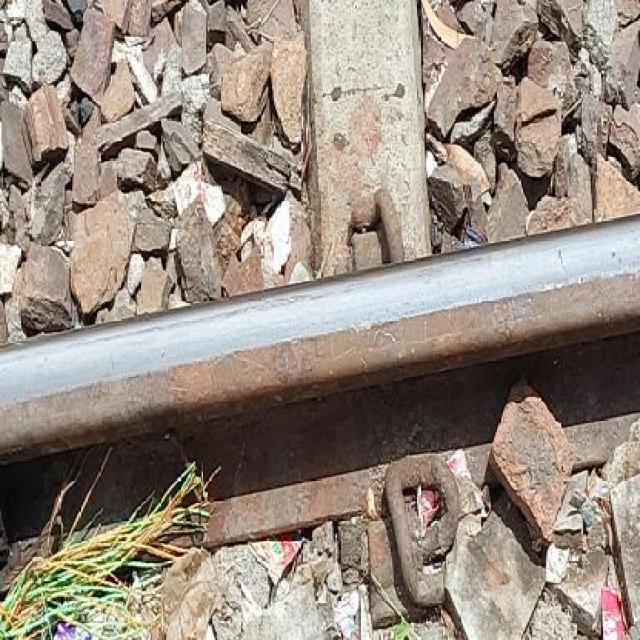non-defective: (44, 224, 633, 467)
